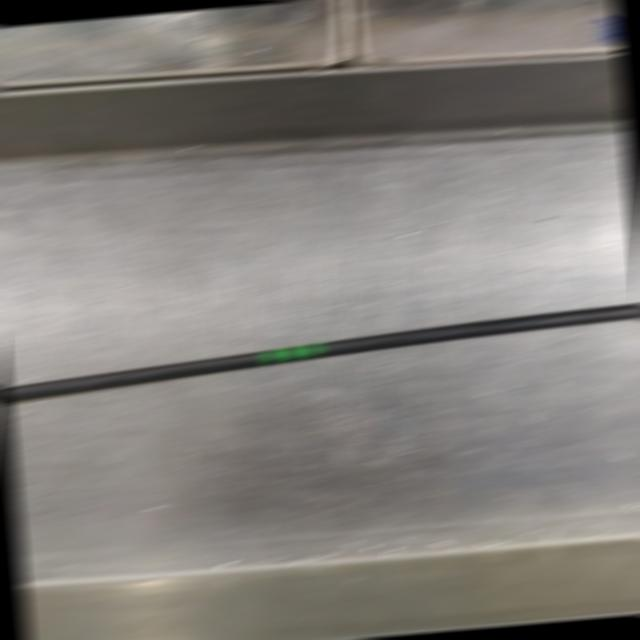green: (260, 342, 324, 364)
